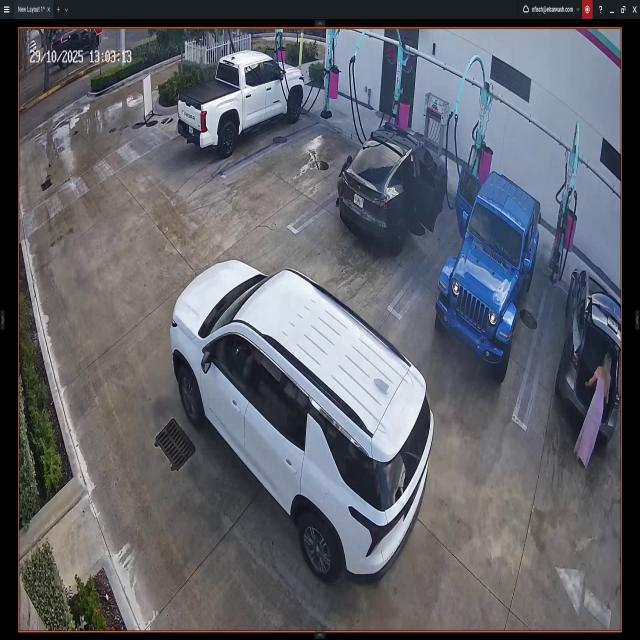Car: (170, 261, 435, 582), (437, 167, 539, 376), (179, 52, 306, 158), (340, 126, 447, 247), (558, 268, 622, 442)
